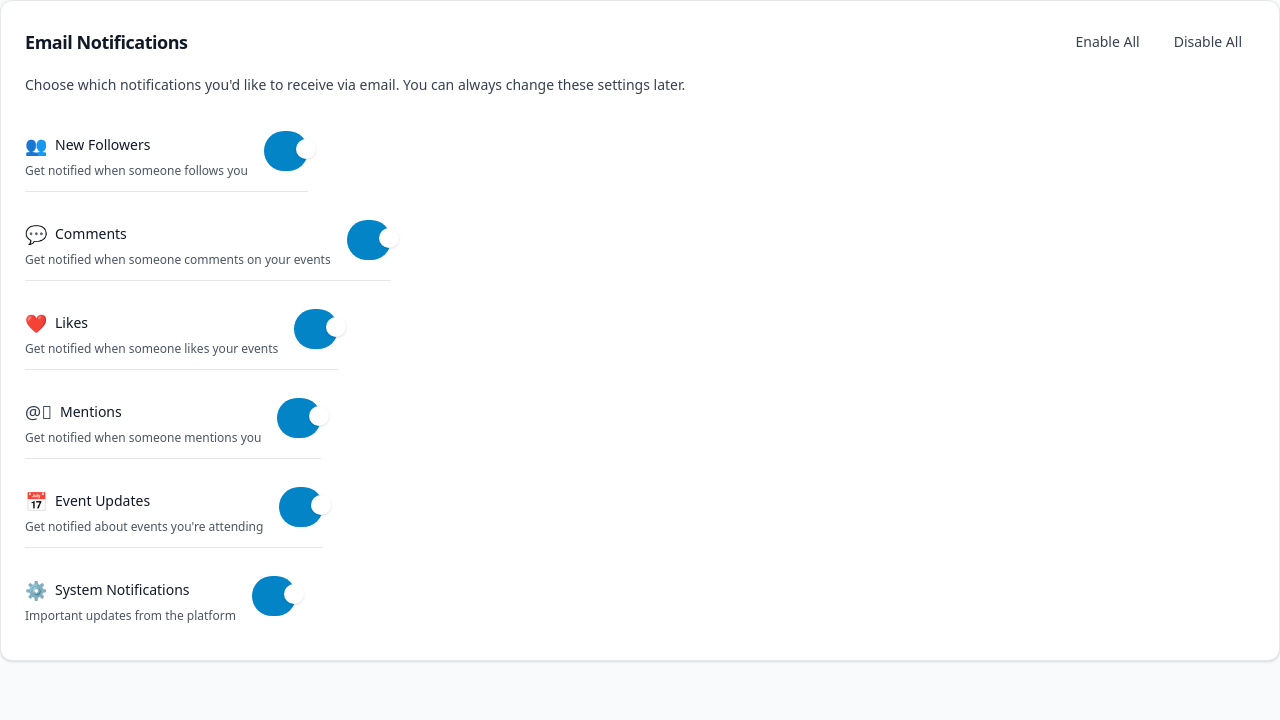
Scenario: NotificationSettings Component › Preference Toggles › should show save button when changes are made
This screenshot has width=1280, height=720.
Expected: the button "Save Changes" is not shown
# Make a change
Click the switch named "New Followers" next to "Get notified when someone follows you" at (286, 151), box [264, 131, 308, 171]
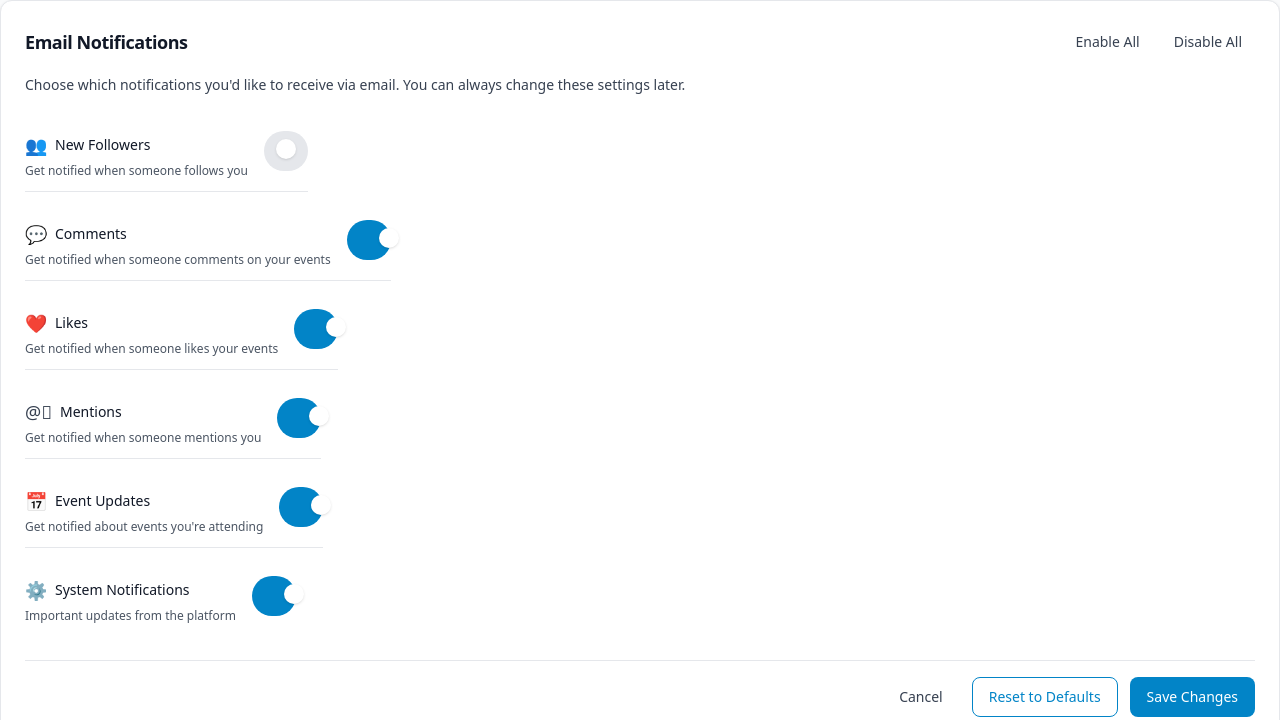
Now the button "Save Changes" is shown, box [1130, 677, 1255, 717]
Now the button "Cancel" is shown, box [882, 677, 960, 717]
